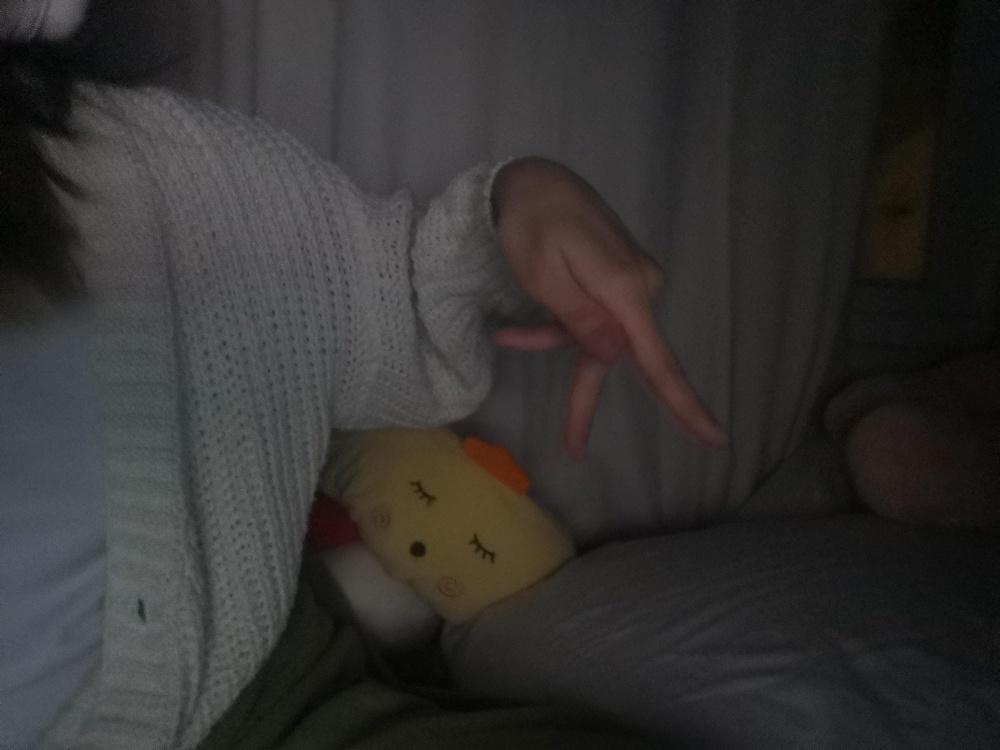p: (489, 151, 733, 464)
